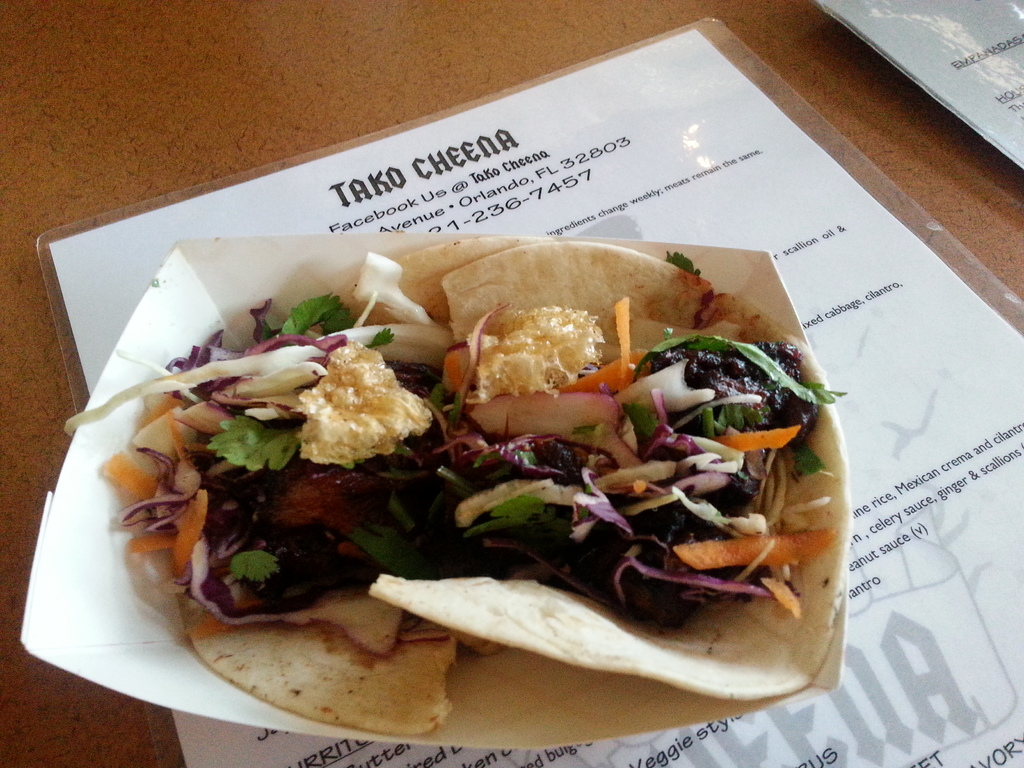taco: (368, 237, 849, 700), (170, 307, 458, 729)
